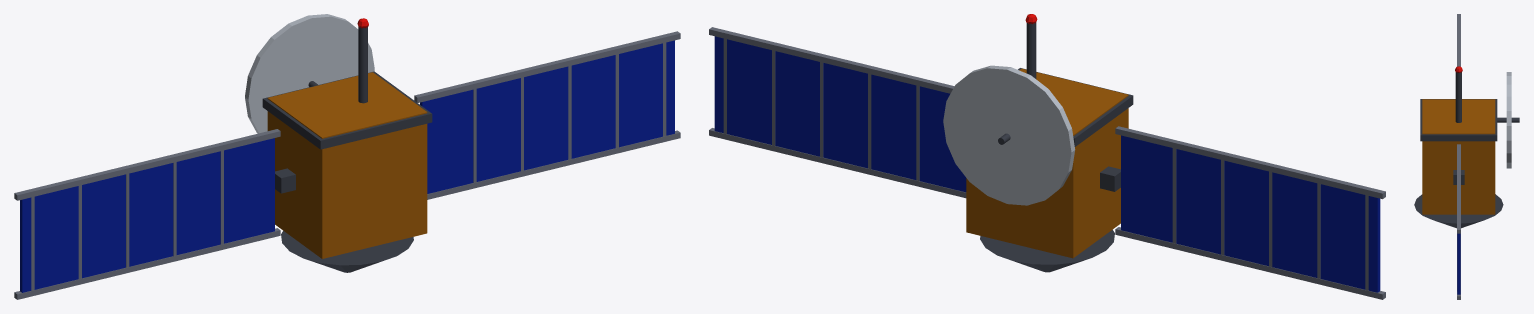
File: sat_comm.glb
The picture shows the model from 3 angles, left to right: view 1: azimuth 30°, elevation 25°; view 2: azimuth 150°, elevation 25°; view 3: azimuth 270°, elevation 25°; orthographic projection. The views are drawn at different scales.
Visible parts, largest first — view 1: sat_comm; view 2: sat_comm; view 3: sat_comm.
Part boxes in pixels (x1,y1,x2,y2): sat_comm: [14, 14, 680, 299]; sat_comm: [709, 14, 1385, 299]; sat_comm: [1414, 14, 1519, 299].
Bounding box in the file's own units: 1.93 × 0.6902 × 0.3988.
